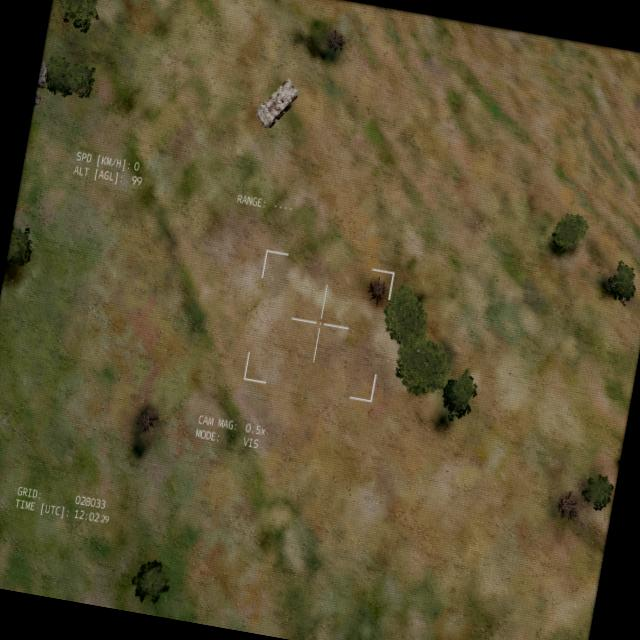apc: (253, 74, 299, 130)
